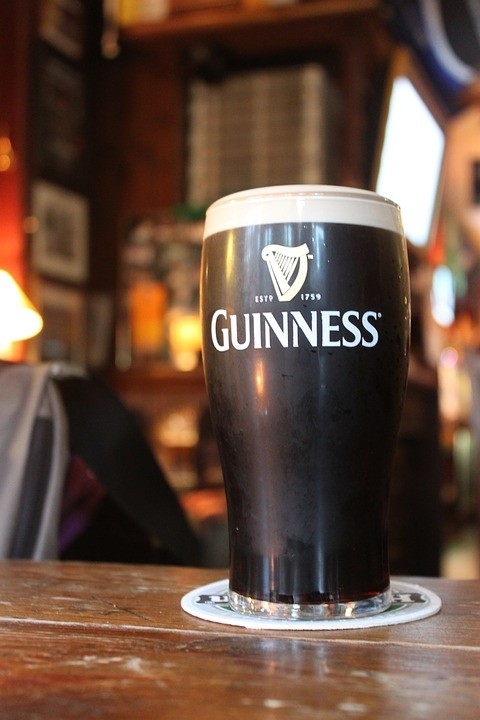glassBeer: (192, 190, 415, 609)
